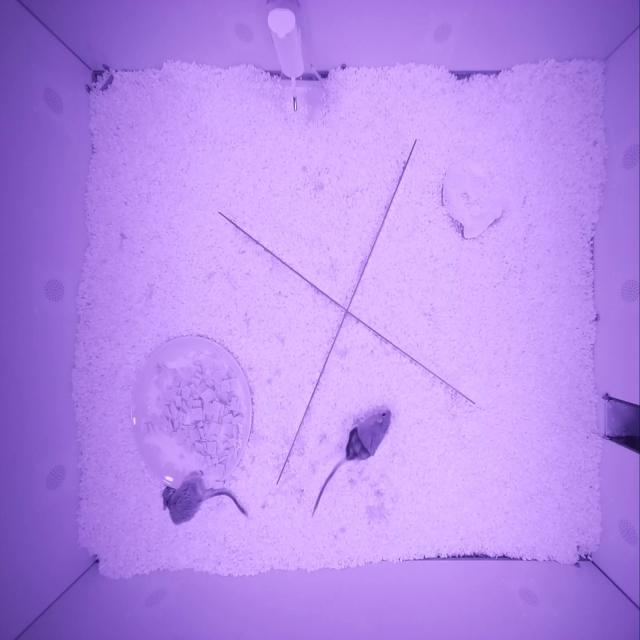adult_back: (345, 410, 391, 461)
adult_front: (162, 470, 204, 525)
